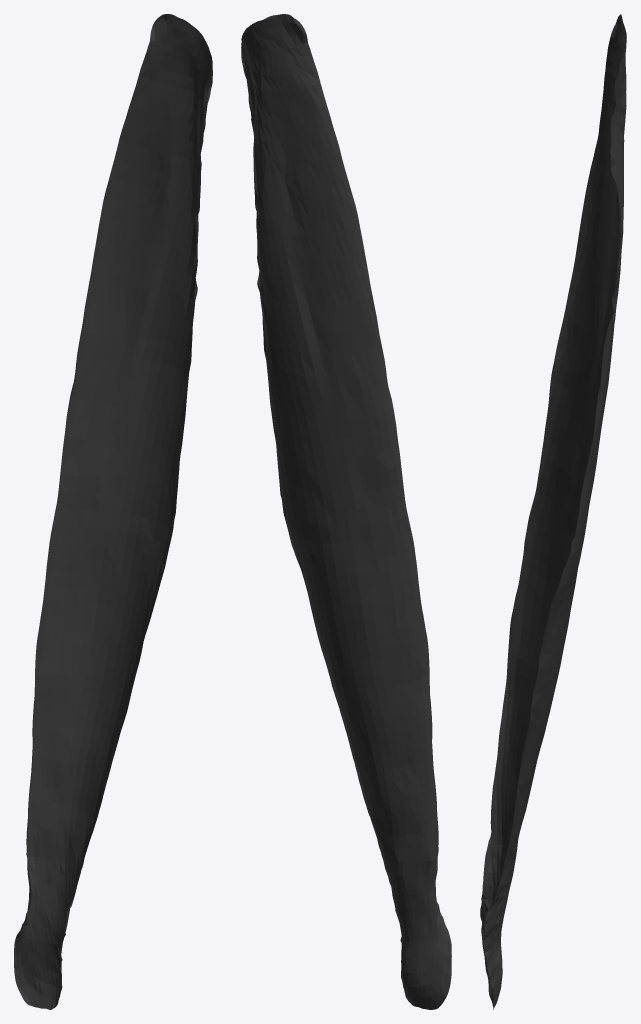
File: SDF.glb
3 renders of one model, left to right at view 1: azimuth 30°, elevation 25°; view 2: azimuth 210°, elevation 25°; view 3: azimuth 330°, elevation 25°, orthographic. The views are drawn at different scales.
Visible parts, largest first — view 1: SDF; view 2: SDF; view 3: SDF.
Part boxes in pixels (x1,y1,x2,y2): SDF: [14, 14, 212, 1009]; SDF: [241, 14, 451, 1009]; SDF: [480, 14, 626, 1009].
Bounding box in the file's own units: 0.0591 × 0.3334 × 0.029.
1 material, 1 textured.
